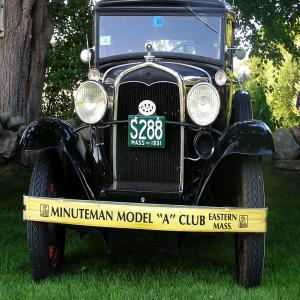Vehicle-registration-plate: (129, 116, 167, 151)
